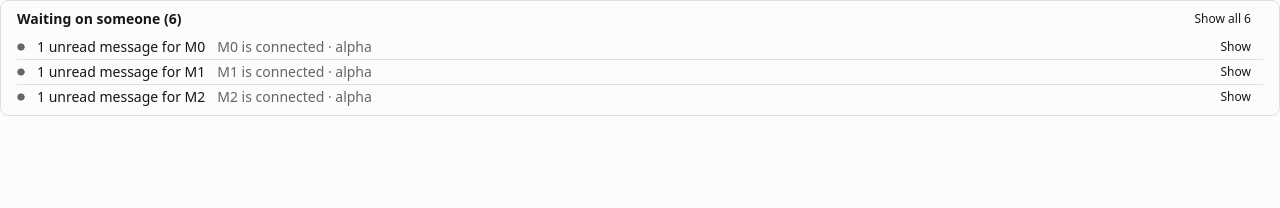
WaitingPanel › shows three items, warnings first, with the full count in the heading, and the rest on request
expect the heading "Waiting on someone (6)" is shown: met, box [17,9,182,29]
expect the number of list items is 3: met, box [17,35,1263,60]; [17,60,1263,85]; [17,85,1263,109]
Click the button "Show all 6".
click(1223, 19)  # box [1182,7,1263,31]
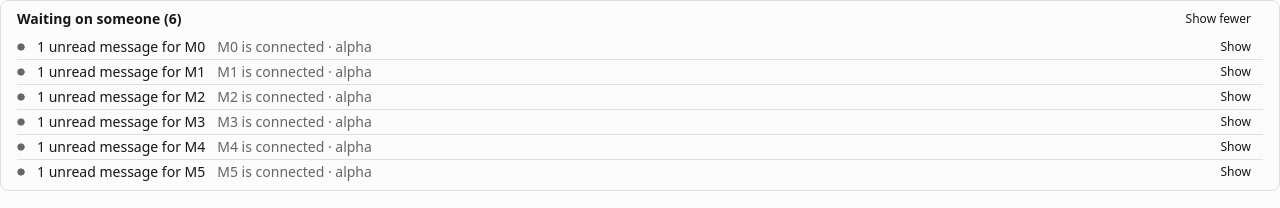
expect the number of list items is 6: met, box [17,35,1263,60]; [17,60,1263,85]; [17,85,1263,110]; [17,110,1263,135]; [17,135,1263,160]; [17,160,1263,184]
